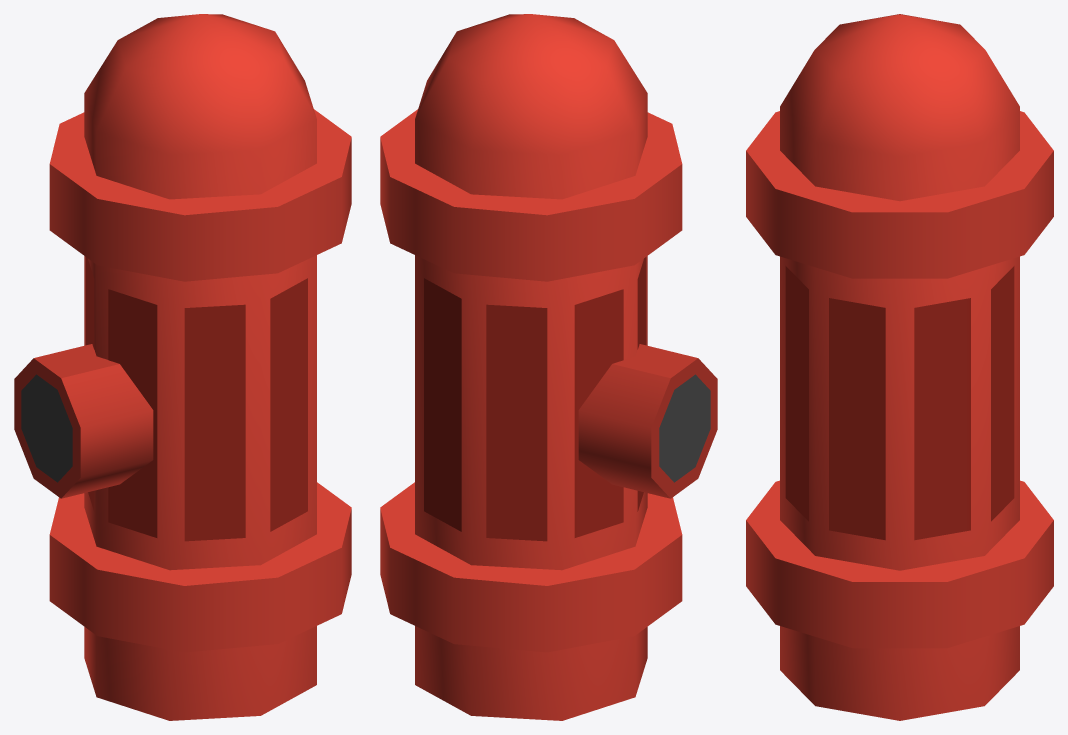
The model's file is Hydrant.fbx.
3 views of the same model, side by side, from view 1: azimuth 30°, elevation 25°; view 2: azimuth 150°, elevation 25°; view 3: azimuth 270°, elevation 25° (orthographic).
Visible parts, largest first — view 1: Hydrant_1A; view 2: Hydrant_1A; view 3: Hydrant_1A.
Part boxes in pixels (x1=…): Hydrant_1A: x1=14, y1=14, x2=351, y2=720; Hydrant_1A: x1=380, y1=14, x2=717, y2=720; Hydrant_1A: x1=746, y1=14, x2=1053, y2=720.
Bounding box in the file's own units: 1265 × 2830 × 1205.
